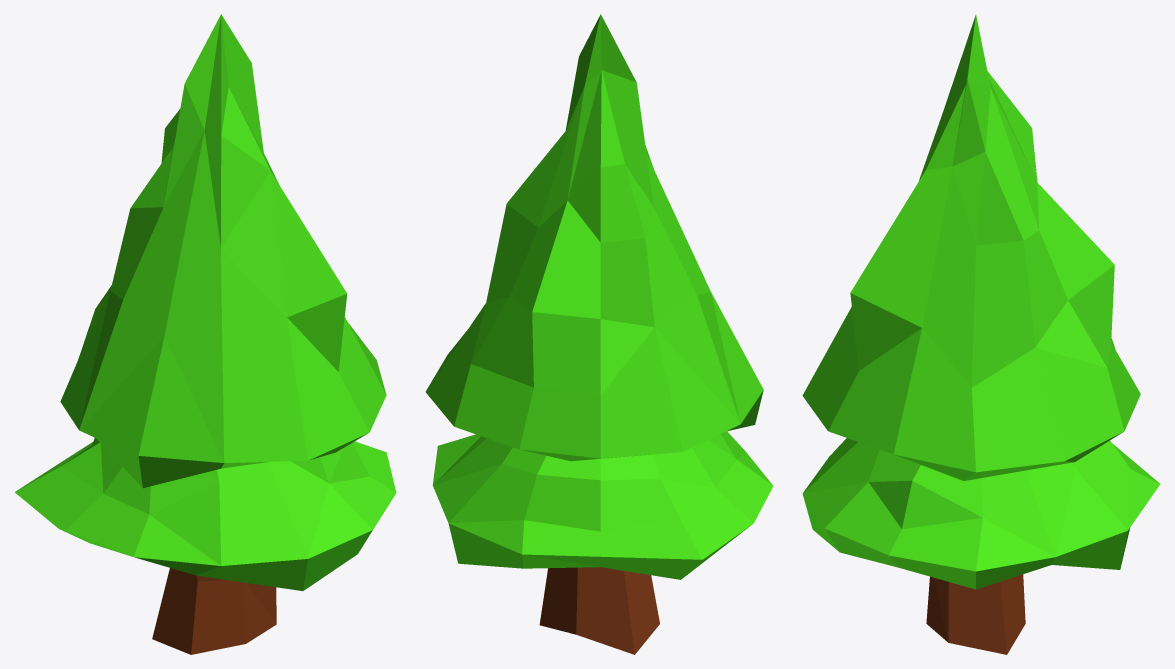
Rendered from Tree3.fbx.
3 views of the same model, side by side, from view 1: azimuth 30°, elevation 25°; view 2: azimuth 150°, elevation 25°; view 3: azimuth 270°, elevation 25° (orthographic).
Visible parts, largest first — view 1: Tree3; view 2: Tree3; view 3: Tree3.
Part boxes in pixels (x1,y1,x2,y2): Tree3: (15,14,396,654); Tree3: (425,14,773,654); Tree3: (802,15,1160,654).
Size of the model in its own units: 164 by 306 by 159.
